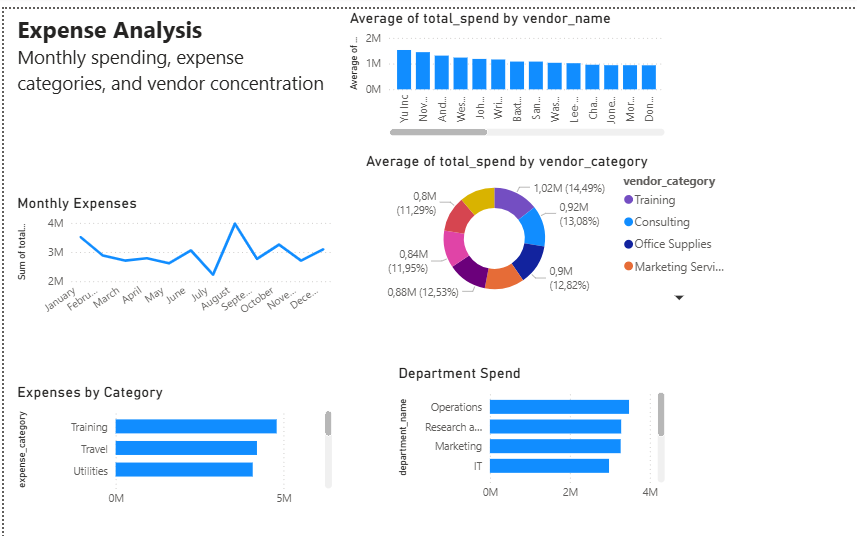

Layout of this report page (visuals, bound fields, positions):
{"tool":"powerbi","page":{"name":"Expense Analysis","canvas":[1280,720],"ordinal":2},"visuals":[{"type":"textbox","box":[10,0,370,143.3],"z":0},{"type":"lineChart","title":"Monthly Expenses","fields":{"Category":["monthly_finance_kpis.month.Variation.Date Hierarchy.Month"],"Y":["Sum(monthly_finance_kpis.total_expenses)"]},"box":[10,211.5,370,150],"z":1000},{"type":"clusteredBarChart","title":"Expenses by Category","fields":{"Category":["expense_category_summary.expense_category"],"Y":["Sum(expense_category_summary.total_expenses)"]},"box":[10,427,370,150],"z":2000},{"type":"clusteredColumnChart","fields":{"Category":["vendor_spend_summary.vendor_name"],"Y":["Avg(vendor_spend_summary.total_spend)"]},"box":[390,0,370,150],"z":3000},{"type":"donutChart","fields":{"Category":["vendor_spend_summary.vendor_category"],"Y":["Avg(vendor_spend_summary.total_spend)"]},"box":[408.2,162.7,430,180],"z":4000},{"type":"clusteredBarChart","title":"Department Spend","fields":{"Category":["department_budget_summary.department_name"],"Y":["Sum(department_budget_summary.total_actual_spend)"]},"box":[445.5,405.5,314.5,164.5],"z":5000}]}

Visuals, with their boxes on the page's 1280x720 design canvas (x1, y1, x2, y2). These are canvas units, not pixel positions in the 857x536 screenshot, which may show the page scaled, cropped or inside an application window:
textbox: bbox(10, 0, 380, 143)
"Monthly Expenses" lineChart: bbox(10, 212, 380, 362)
"Expenses by Category" clusteredBarChart: bbox(10, 427, 380, 577)
clusteredColumnChart - vendor_spend_summary.vendor_name x Avg(vendor_spend_summary.total_spend): bbox(390, 0, 760, 150)
donutChart - vendor_spend_summary.vendor_category x Avg(vendor_spend_summary.total_spend): bbox(408, 163, 838, 343)
"Department Spend" clusteredBarChart: bbox(446, 406, 760, 570)
